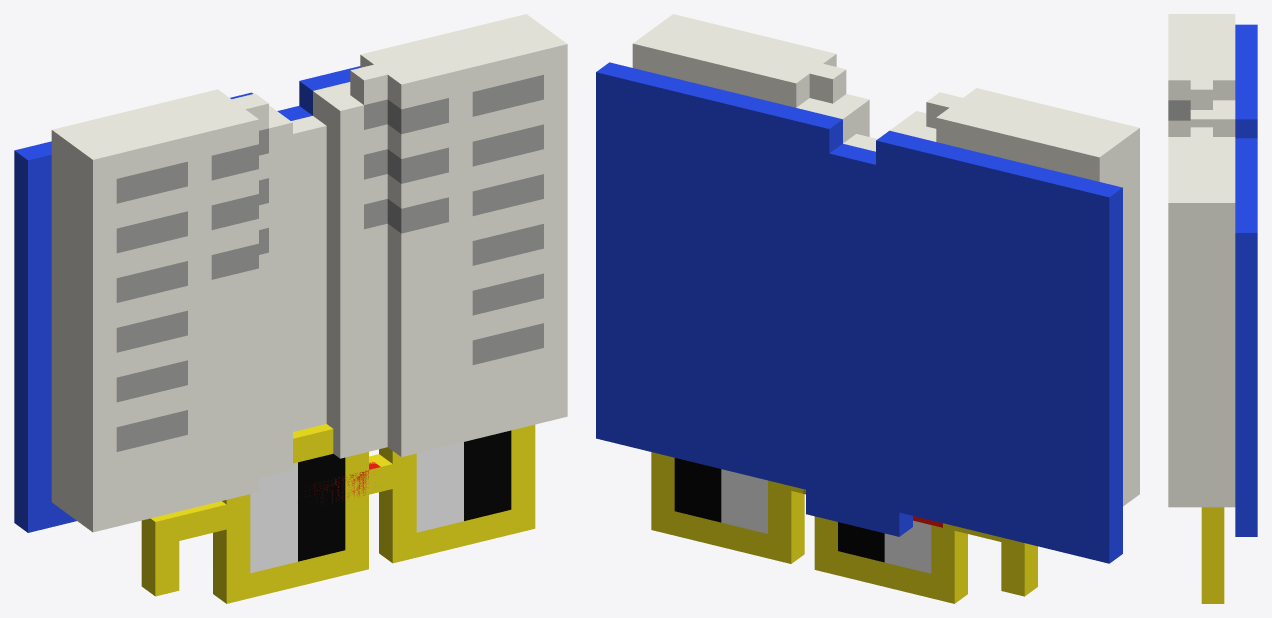
Rendered from dictionnary.glb.
The picture shows the model from 3 angles, left to right: view 1: azimuth 30°, elevation 25°; view 2: azimuth 150°, elevation 25°; view 3: azimuth 270°, elevation 25°; orthographic projection. The views are drawn at different scales.
Parts seen in each view (by area): view 1: l1, l2, Noggles, l3, layer-2, base; view 2: base, Noggles, l3, l1, l2, layer-2; view 3: base, l1, l2, l3, Noggles.
Boxes of the visible parts, x1=… form: l1: x1=79, y1=34, x2=567, y2=532; l2: x1=65, y1=24, x2=553, y2=521; Noggles: x1=141, y1=424, x2=535, y2=603; l3: x1=51, y1=14, x2=539, y2=512; layer-2: x1=250, y1=430, x2=511, y2=573; base: x1=14, y1=66, x2=360, y2=532; base: x1=596, y1=62, x2=1122, y2=563; Noggles: x1=651, y1=452, x2=1037, y2=603; l3: x1=632, y1=33, x2=1112, y2=184; l1: x1=660, y1=14, x2=1139, y2=503; l2: x1=646, y1=24, x2=1126, y2=506; layer-2: x1=674, y1=458, x2=931, y2=573; base: x1=1235, y1=24, x2=1257, y2=536; l1: x1=1168, y1=14, x2=1190, y2=507; l2: x1=1190, y1=14, x2=1212, y2=507; l3: x1=1213, y1=14, x2=1235, y2=507; Noggles: x1=1201, y1=507, x2=1224, y2=603.
Size of the model in its own units: 22 by 20 by 4.
Materials: 8 (8 with a texture image).
